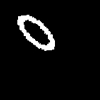chain: (18, 15, 54, 50)
